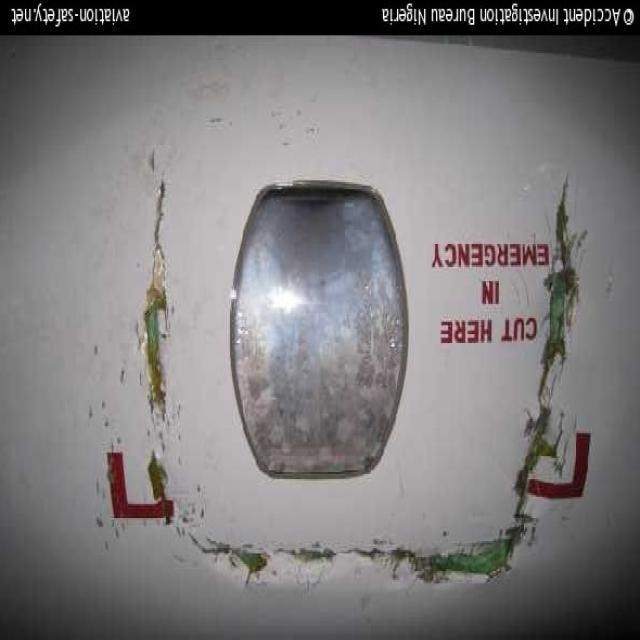crack: (507, 172, 590, 531), (184, 534, 524, 582), (139, 179, 173, 427)
